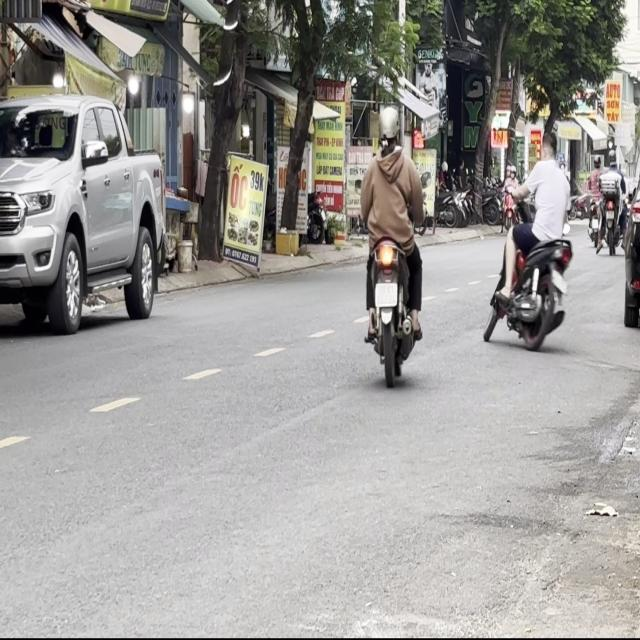helmet: (377, 106, 400, 150)
licenseplate: (358, 104, 428, 384), (488, 122, 573, 350)
motorcyclist: (540, 130, 558, 160)
nohelmet: (375, 280, 396, 303)
